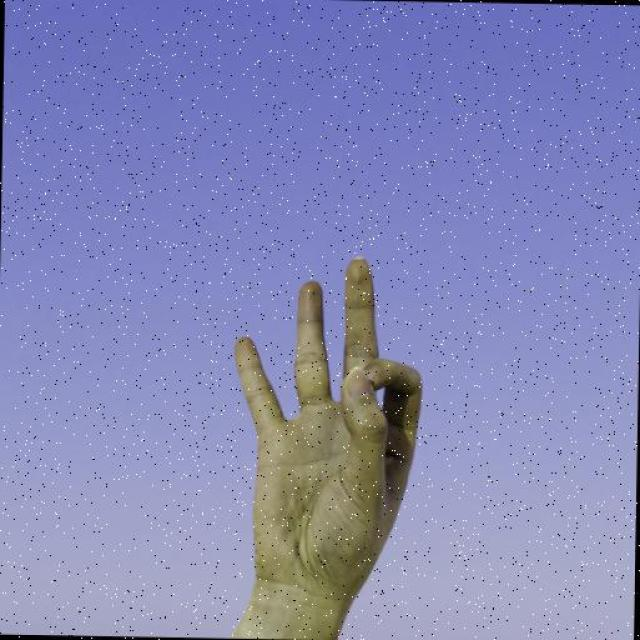F: (228, 250, 430, 600)
